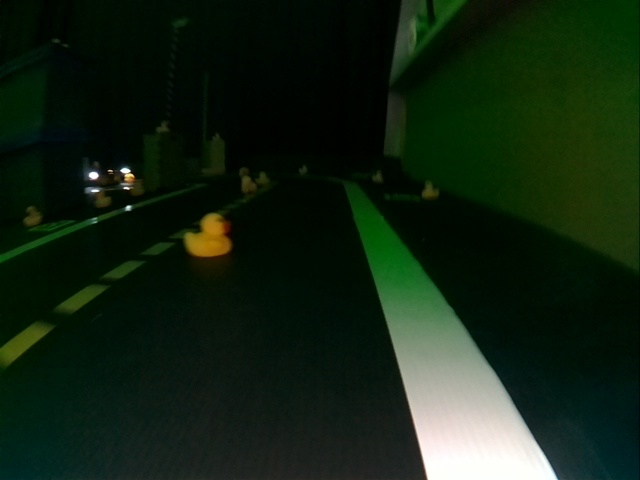Duckie: (184, 213, 231, 257), (424, 182, 438, 198), (96, 192, 112, 204), (242, 180, 255, 192)
